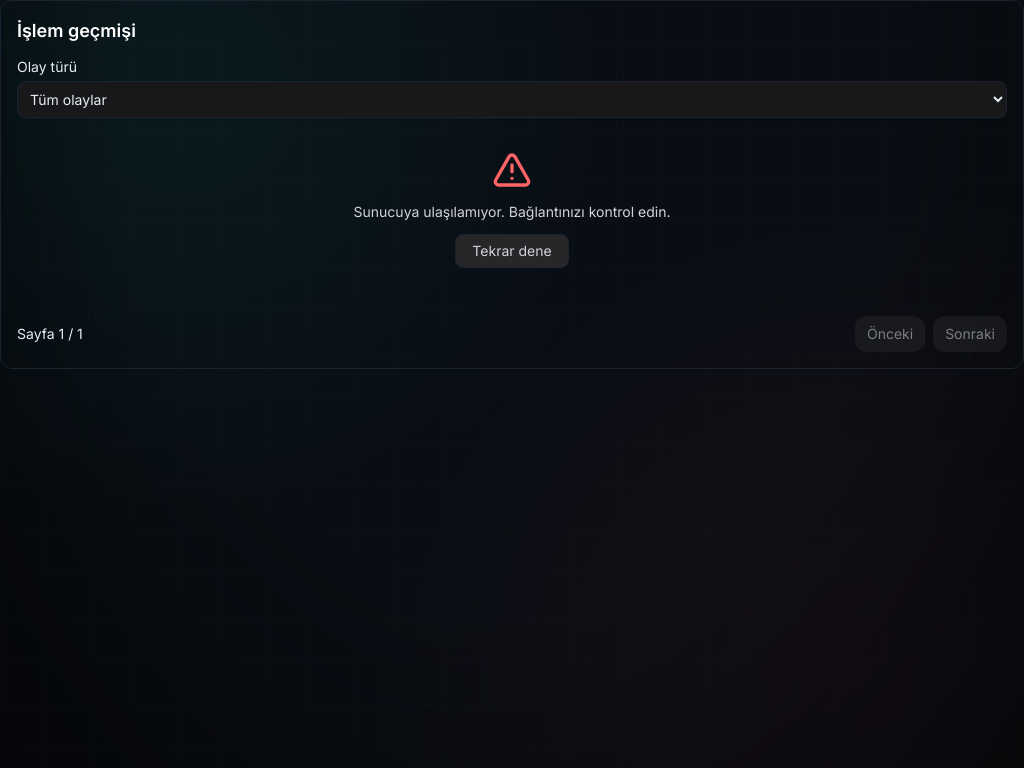
Vaka timeline › olay yükleme hatası tekrar denenebilir
Expected: the message shows "Sunucuya ulaşılamıyor.", left=354, top=203, right=670, bottom=220
Click the button "Tekrar dene" at coordinates (512, 251), box left=455, top=234, right=569, bottom=268
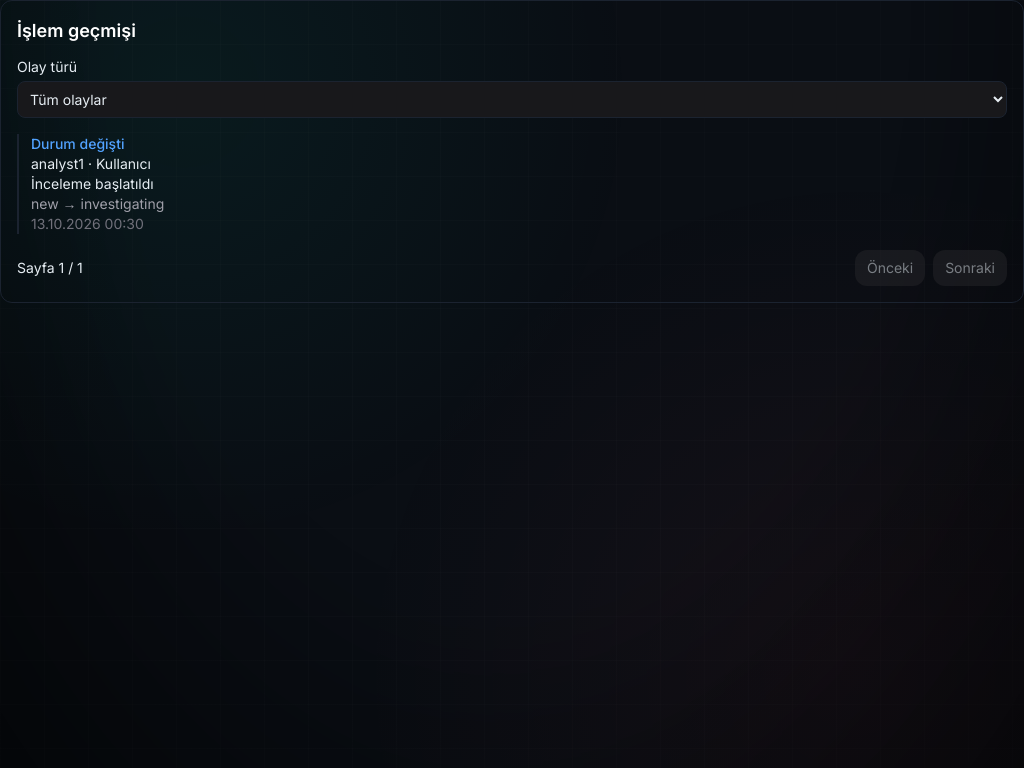
Expected: the text "İnceleme başlatıldı" is shown, left=31, top=175, right=154, bottom=192
